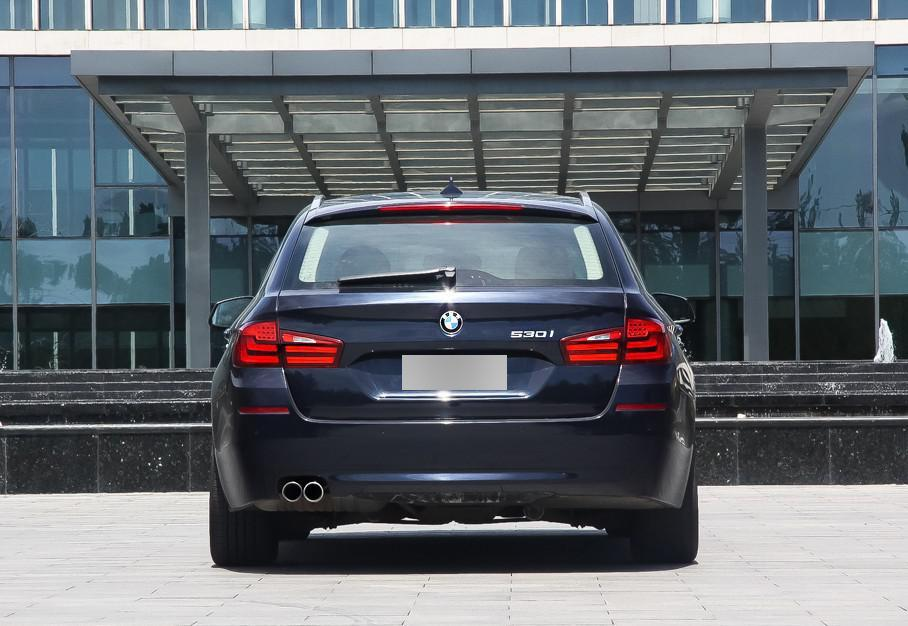Wagon: (209, 176, 698, 564)
